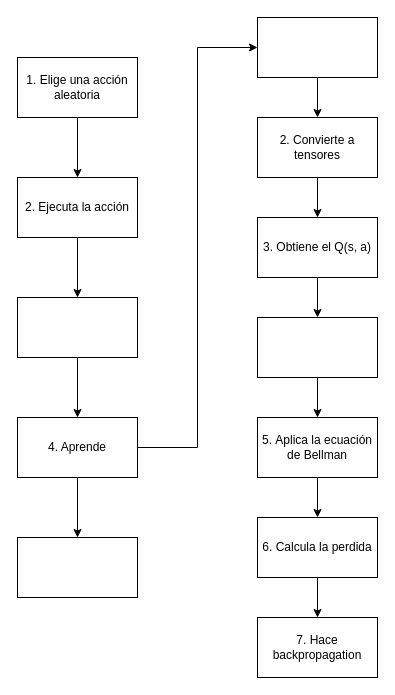
The diagram is 395 pixels wide and 695 high, and some of its shapes have lost their labels. The centre of each missing label's shape, as x and y in pixels:
"1. Toma un batch" goes at (x=317, y=47).
"3. Guarda la transición" goes at (x=77, y=327).
"4. Calcula el siguiente mejor estado" goes at (x=317, y=347).
"5. Actualiza el estado" goes at (x=77, y=567).
